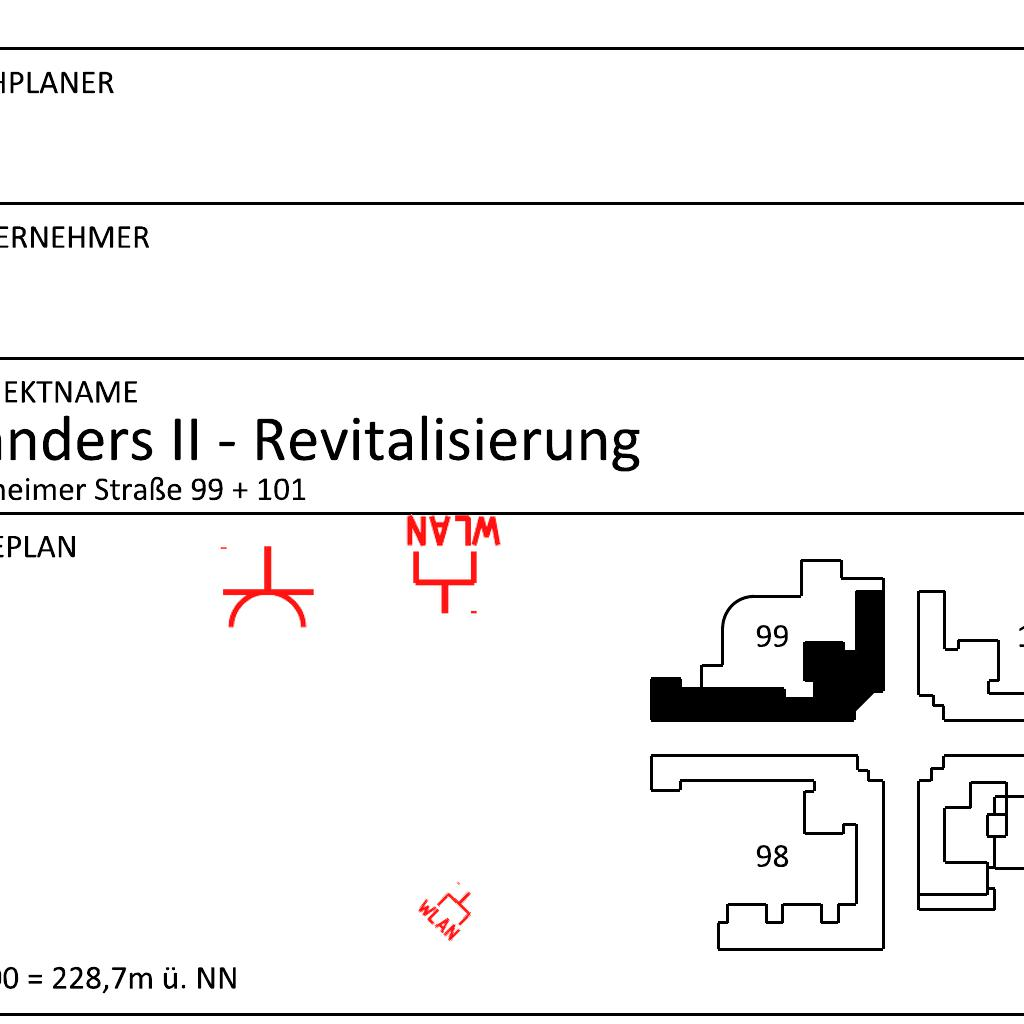Schukosteckdose_einfach: (216, 544, 316, 631)
WLAN: (402, 513, 506, 618), (413, 870, 487, 944)
